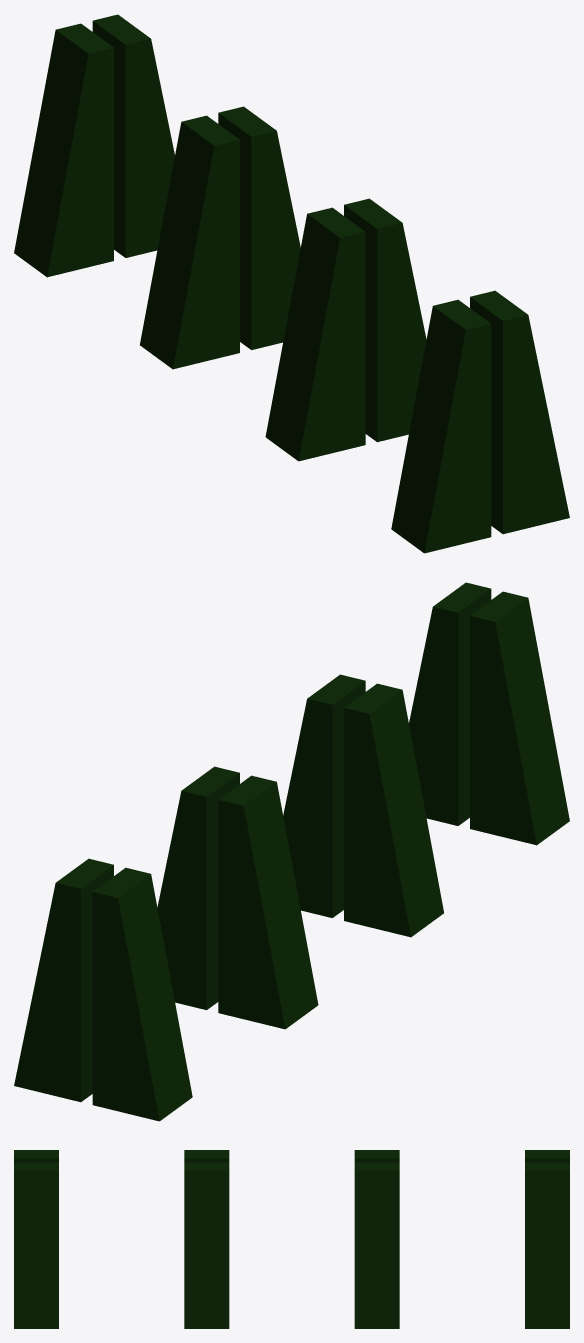
File: wall-base2.fbx
3 renders of one model, top to bottom at view 1: azimuth 30°, elevation 25°; view 2: azimuth 150°, elevation 25°; view 3: azimuth 270°, elevation 25°, orthographic. The views are drawn at different scales.
Parts seen in each view (by area): view 1: wall-base2; view 2: wall-base2; view 3: wall-base2.
Boxes of the visible parts, x1,y1,x2,y2 form: wall-base2: (14, 14, 569, 553); wall-base2: (14, 582, 569, 1121); wall-base2: (14, 1150, 569, 1328).
Bounding box in the file's own units: 2.41 × 3.37 × 11.76.
